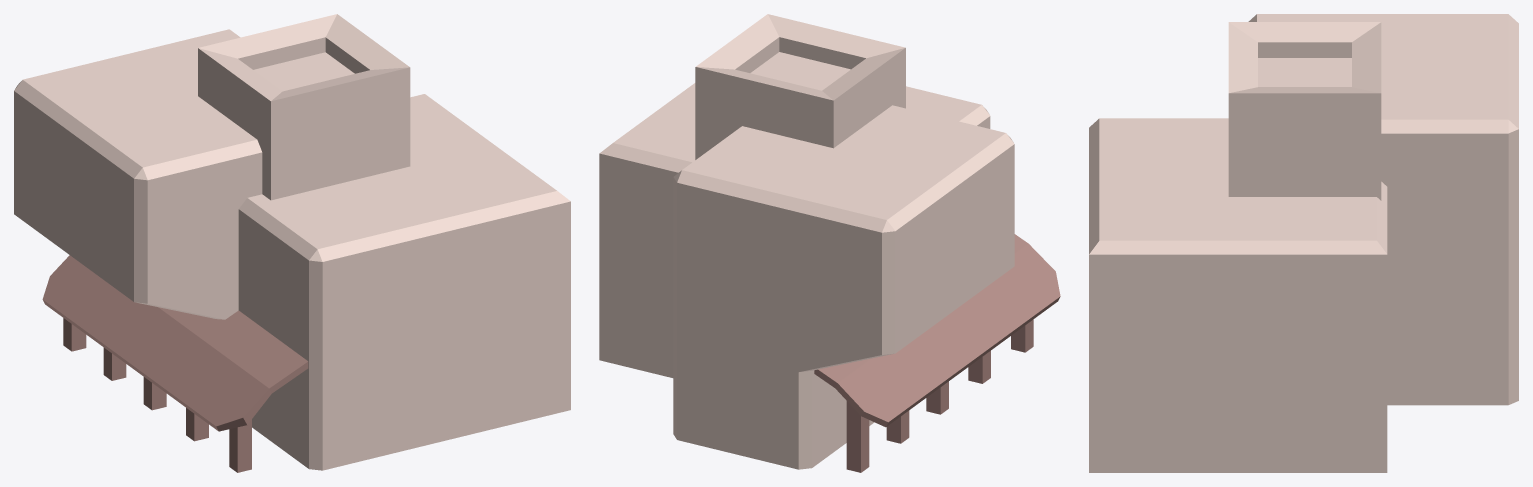
File: Edificio013.FBX
3 renders of one model, left to right at view 1: azimuth 30°, elevation 25°; view 2: azimuth 150°, elevation 25°; view 3: azimuth 270°, elevation 25°, orthographic. The views are drawn at different scales.
Visible parts, largest first — view 1: Edificio013; view 2: Edificio013; view 3: Edificio013.
Part boxes in pixels (x1,y1,x2,y2): Edificio013: (14,14,570,472); Edificio013: (599,14,1060,472); Edificio013: (1089,14,1518,472).
Size of the model in its own units: 1058 by 898 by 1055.
